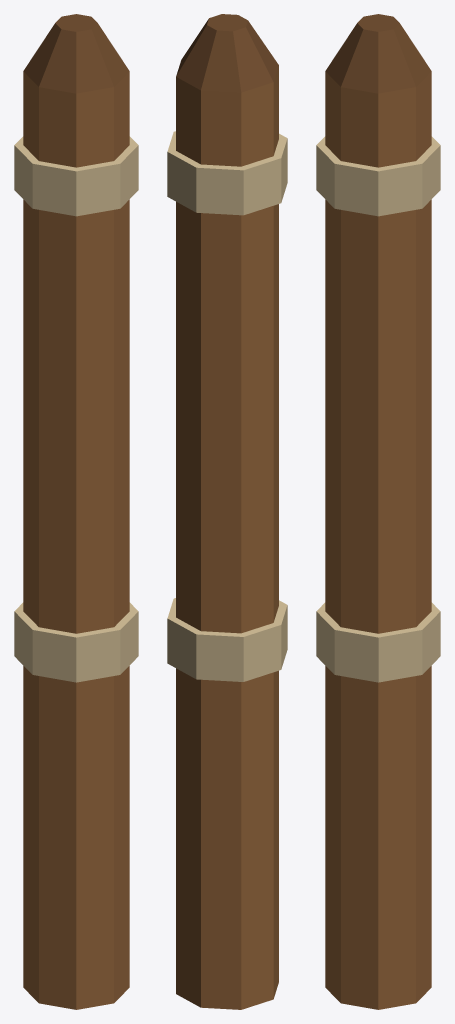
The model's file is rope-post.glb.
3 views of the same model, side by side, from view 1: azimuth 90°, elevation 25°; view 2: azimuth 150°, elevation 25°; view 3: azimuth 270°, elevation 25° (orthographic).
Visible parts, largest first — view 1: rope-post; view 2: rope-post; view 3: rope-post.
Boxes of the visible parts, bbox=[...] form: rope-post: bbox=[14, 14, 138, 1009]; rope-post: bbox=[167, 14, 287, 1009]; rope-post: bbox=[316, 14, 440, 1009].
Size of the model in its own units: 0.35 by 3 by 0.35.
